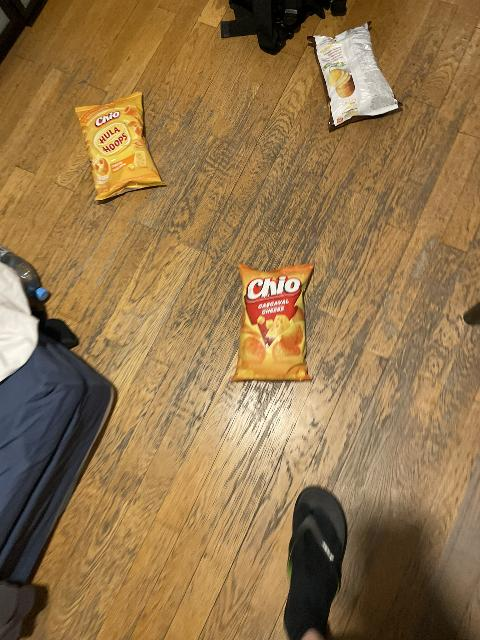Chio Cascaval 125g: (234, 262, 319, 382)
Chio Hula Hoops Cheese 70g: (72, 92, 169, 202)
Lays Beef Grilled Ribs 125g: (312, 23, 401, 130)
